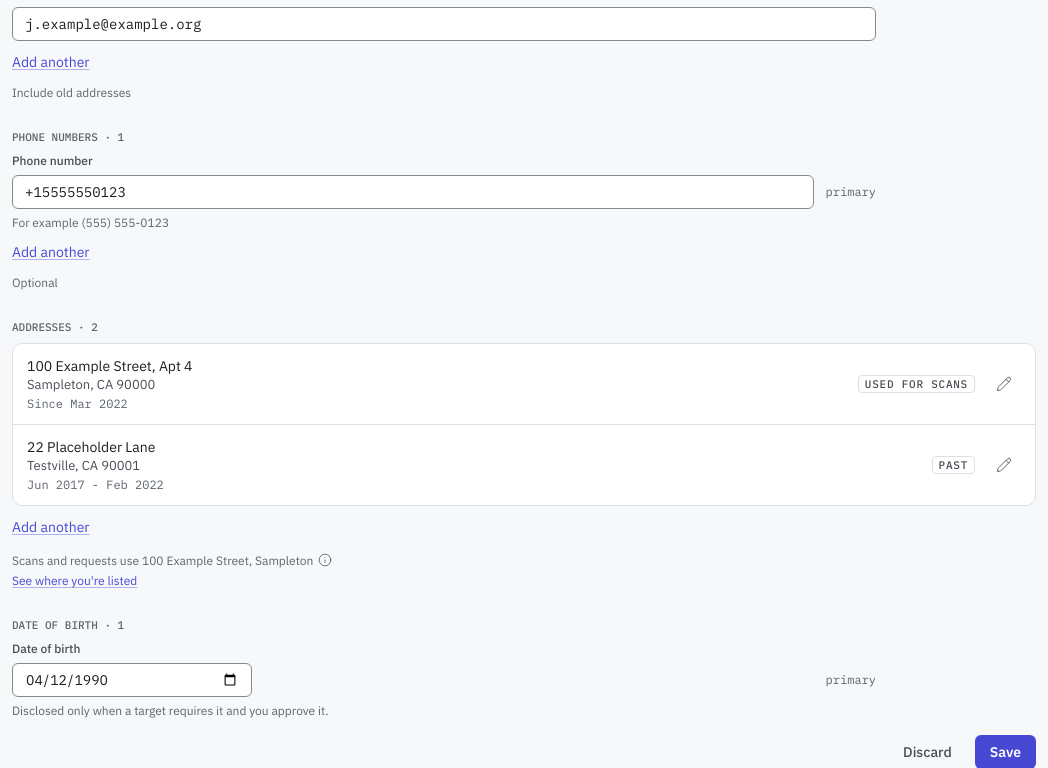
Test case: the profile page › writes a unit typed into the street once, in its own field
(page scrolled)
Step 1. Click the button named "Edit address 1" → [1004, 384], box [987,367,1021,401]
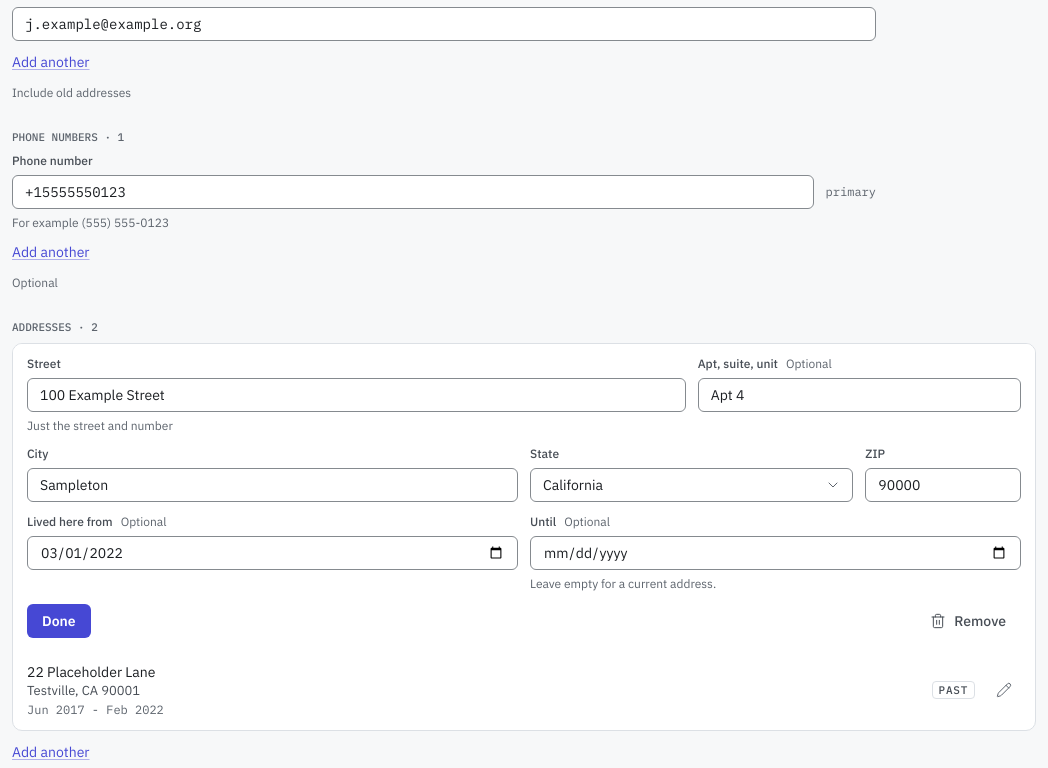
Step 2. Replace the text in the field labelled "Street" with "500 Real Road Apt 12" → [356, 395], box [27,378,686,412]
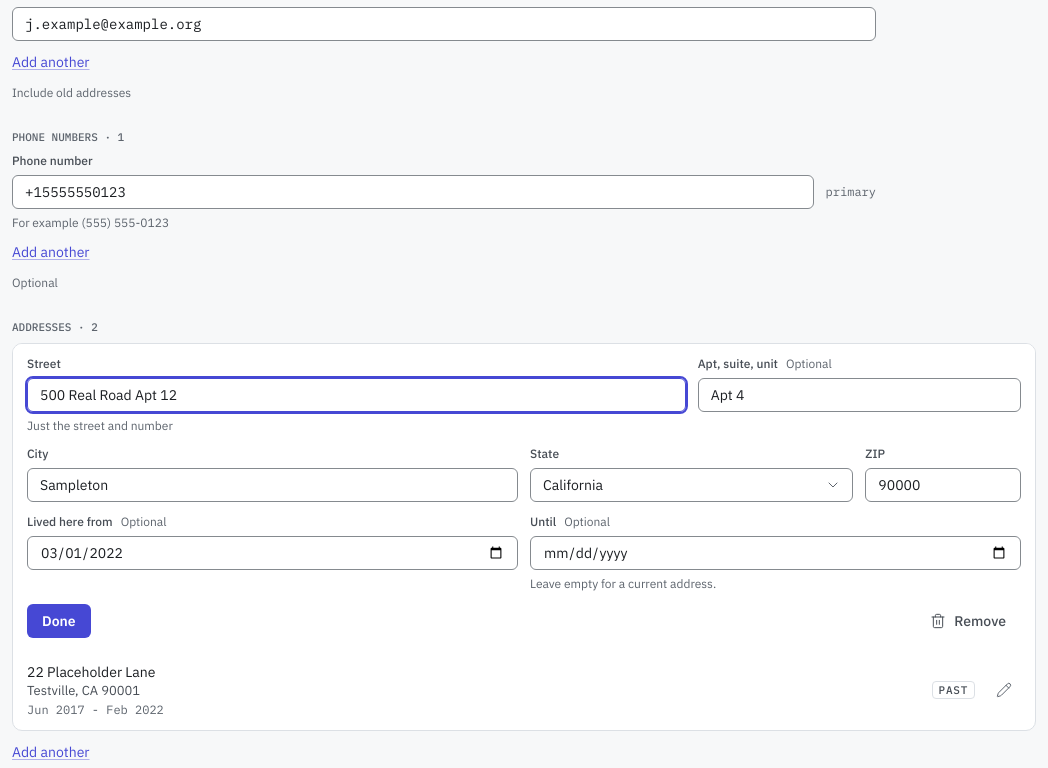
Step 3. Replace the text in the field labelled "Apt, suite, unit Optional" with "Apt 12" → [859, 395], box [698,378,1021,412]
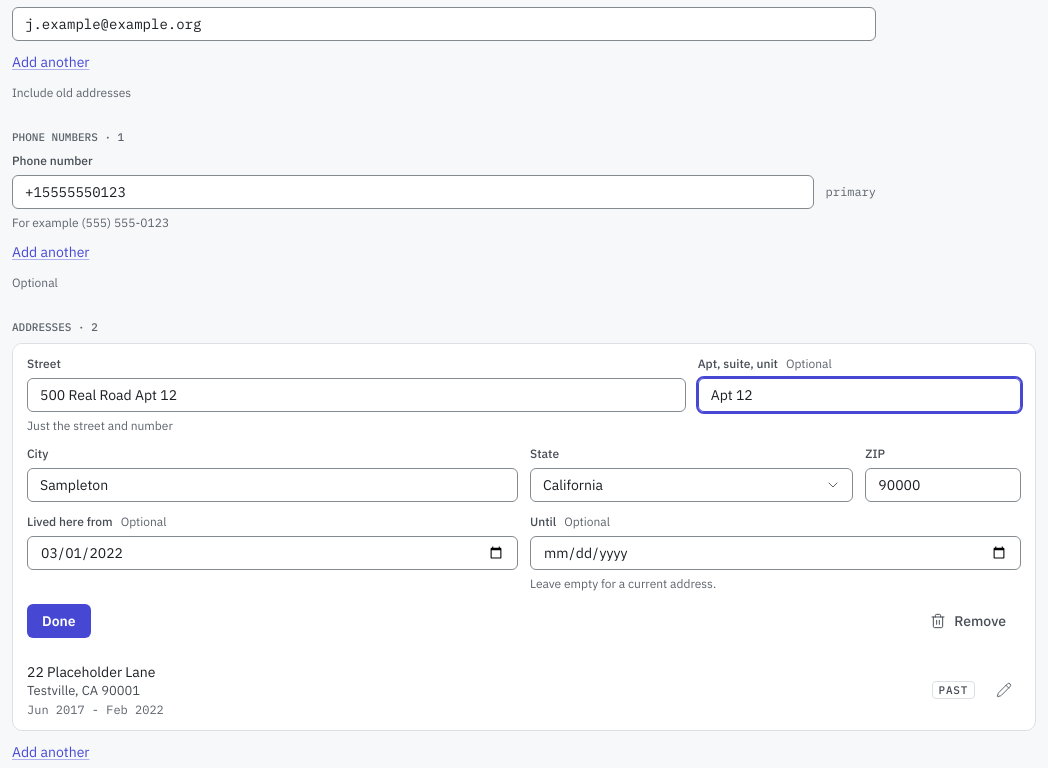
Step 4. Press Tab
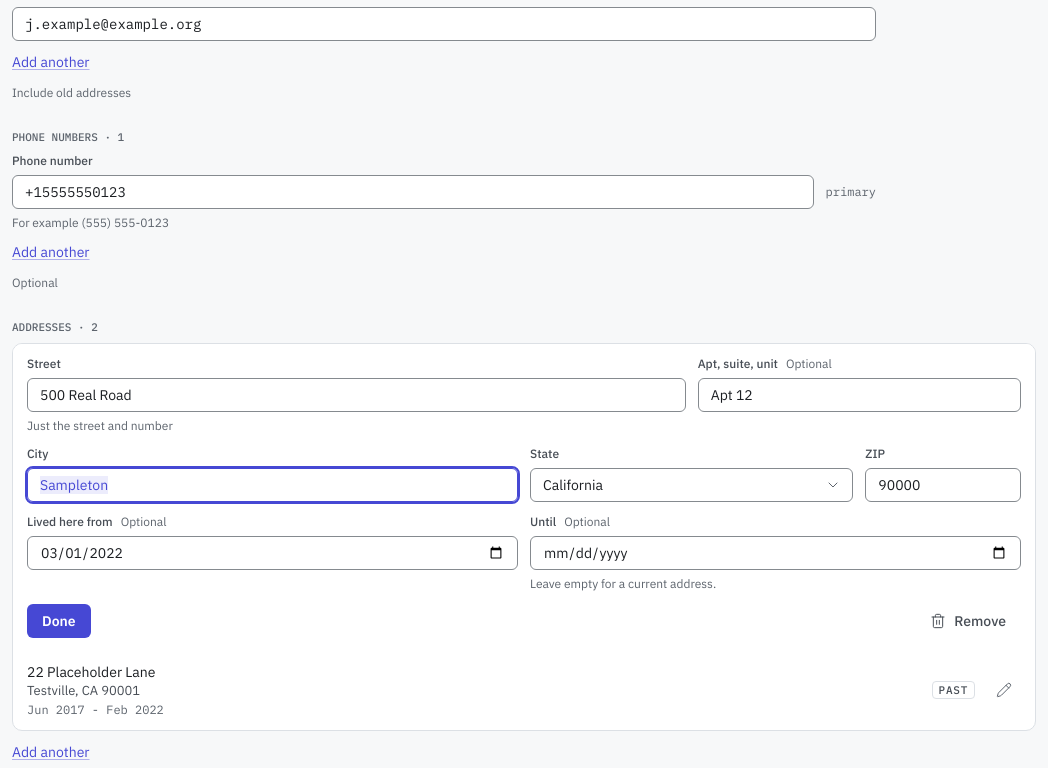
expect the field labelled "Street" holds "500 Real Road": met, box [27,378,686,412]
Step 5. Click the button "Done" → [59, 621], box [27,604,91,638]
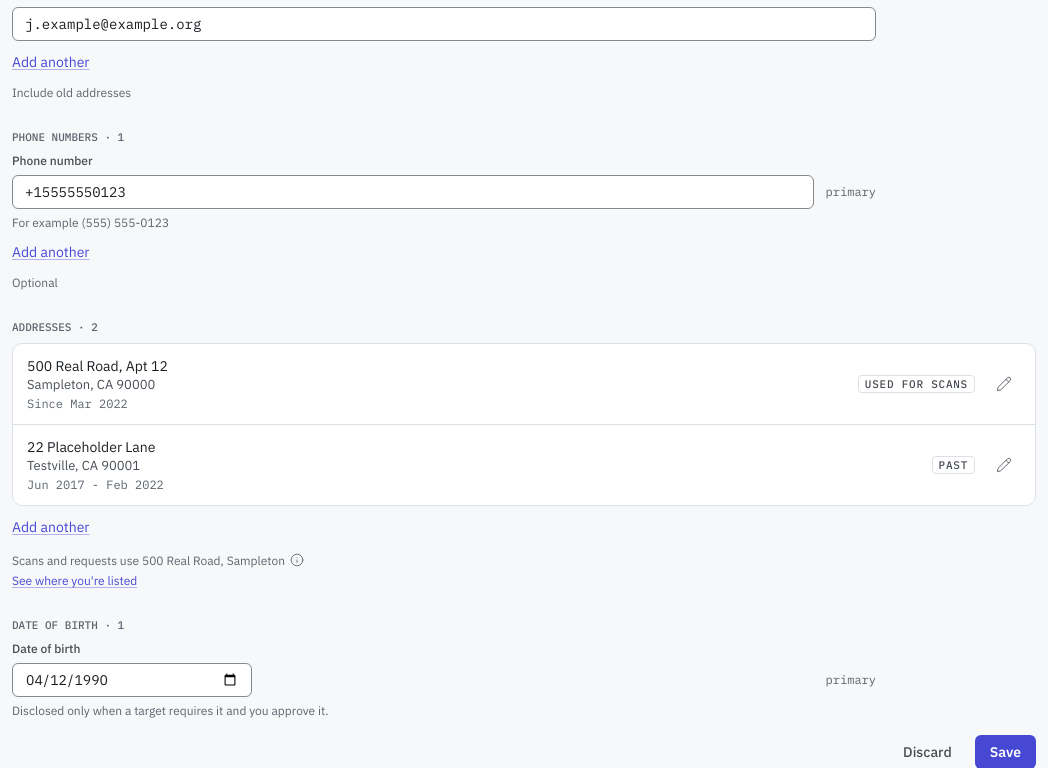
expect the text "500 Real Road, Apt 12" is shown: met, box [27,357,168,375]
Step 6. Click the button with aria-label "Save identities" → [1005, 752], box [975,735,1036,767]
(page scrolled)
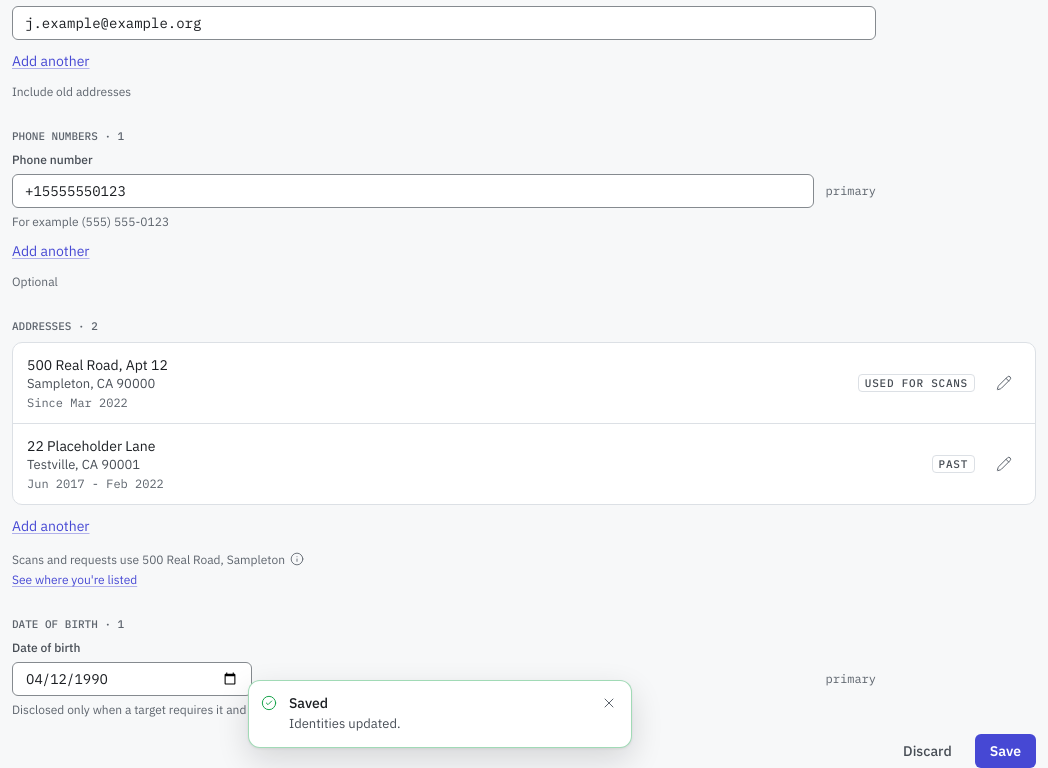
expect the text "Identities updated." is shown: met, box [289,715,400,732]
